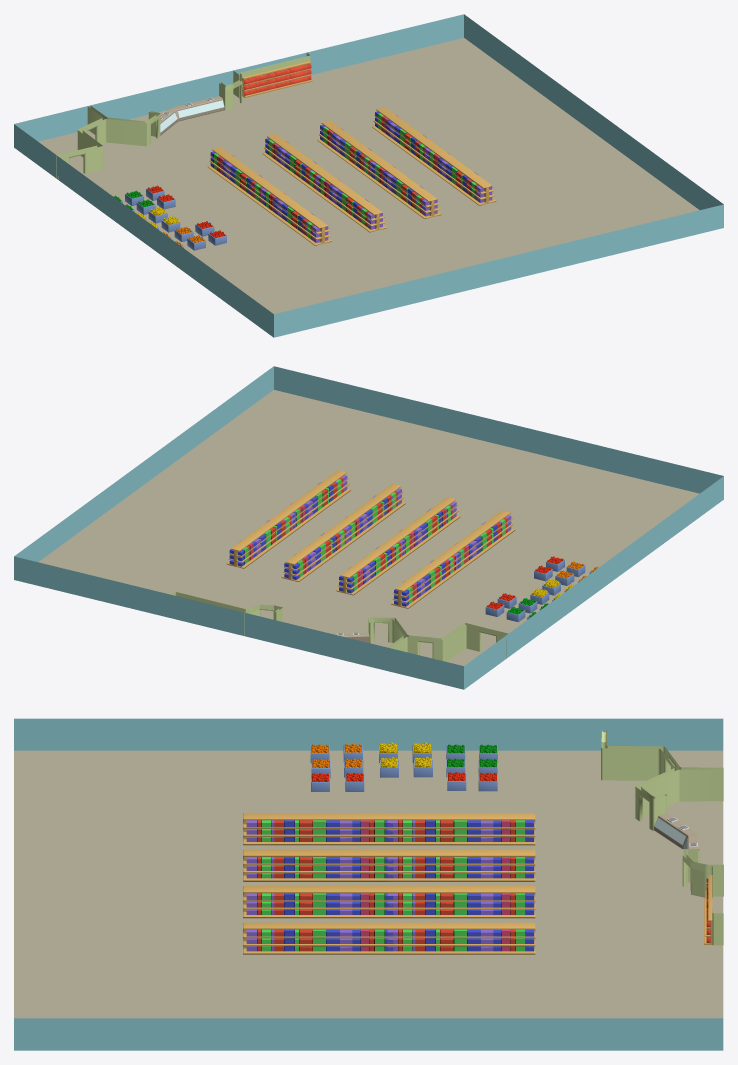
File: Level_MOM2.glb
The picture shows the model from 3 angles, top to bottom: view 1: azimuth 30°, elevation 25°; view 2: azimuth 150°, elevation 25°; view 3: azimuth 270°, elevation 25°; orthographic projection. The views are drawn at different scales.
Visible parts, largest first — view 1: MOM_Level; view 2: MOM_Level; view 3: MOM_Level.
Boxes of the visible parts, left/top/right/bottom form: MOM_Level: left=14, top=14, right=723, bottom=337; MOM_Level: left=14, top=366, right=723, bottom=689; MOM_Level: left=14, top=718, right=723, bottom=1050.
Size of the model in its own units: 200 by 10.09 by 200.
